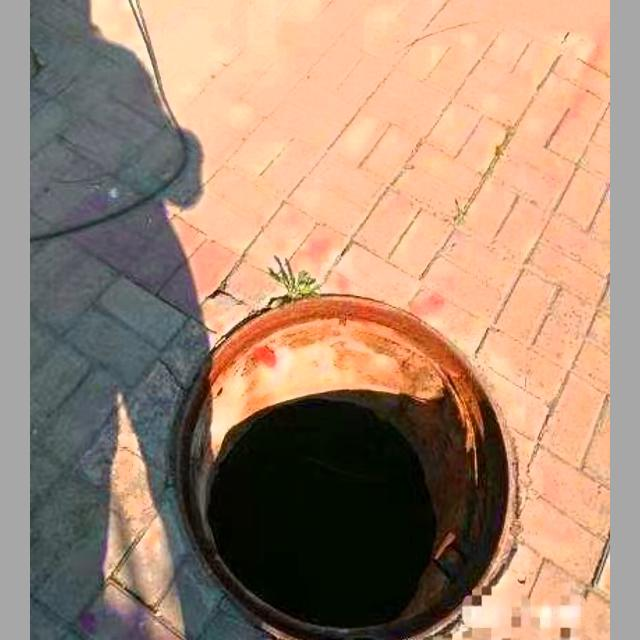lose: (156, 258, 556, 640)
